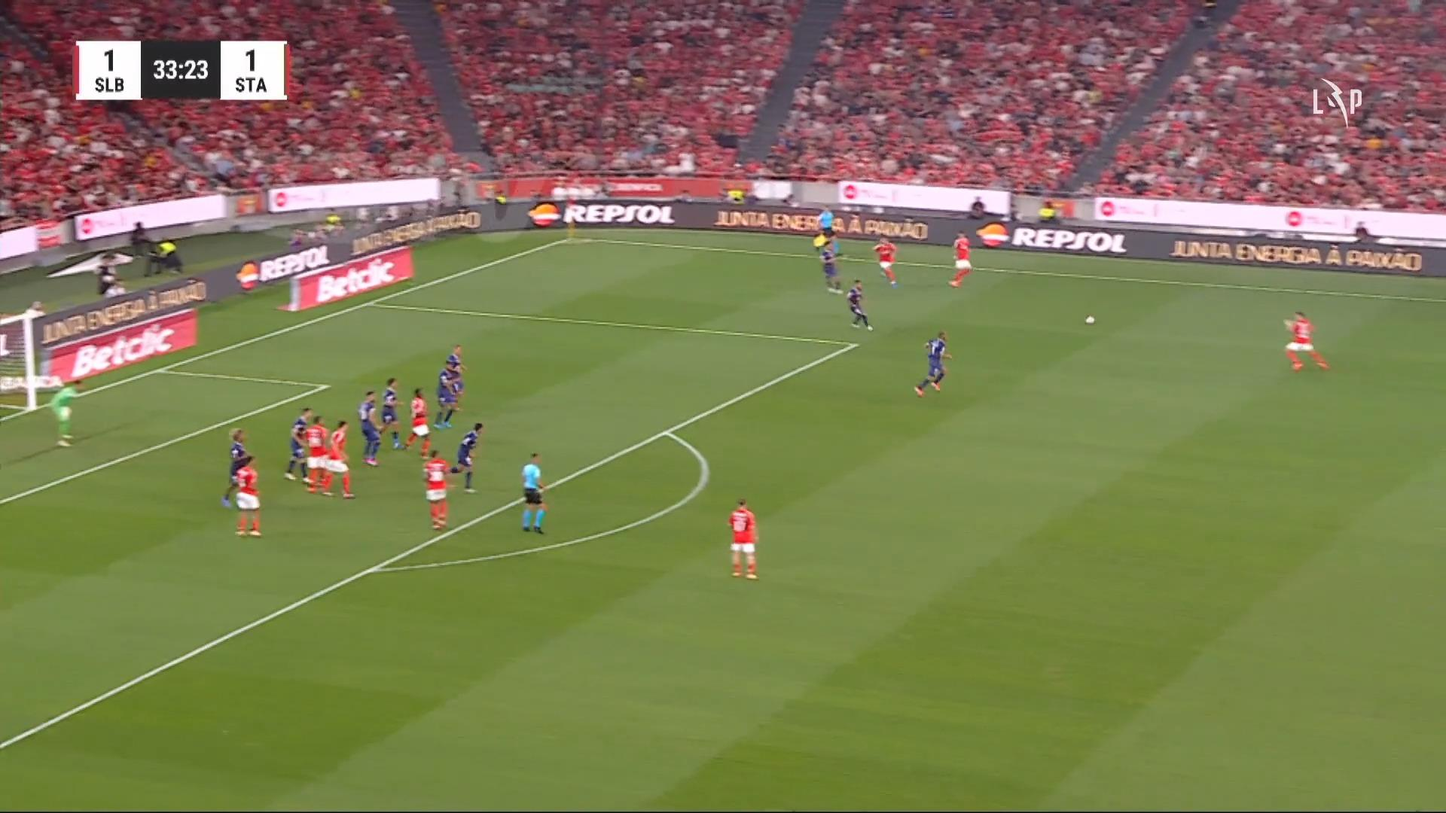ball: (1084, 315, 1094, 324)
goalkeeper: (49, 377, 83, 446)
player: (1283, 309, 1329, 370), (432, 349, 466, 429), (321, 419, 355, 498), (913, 330, 952, 397), (221, 426, 253, 507), (300, 413, 332, 494), (230, 456, 262, 536), (728, 498, 759, 579), (421, 448, 451, 531), (450, 421, 484, 493), (283, 406, 314, 483), (402, 386, 431, 458), (357, 389, 383, 466), (378, 376, 404, 449), (846, 278, 873, 331), (948, 230, 972, 288), (872, 235, 898, 288), (819, 240, 843, 293)
referee: (520, 451, 548, 534), (814, 205, 843, 257)
